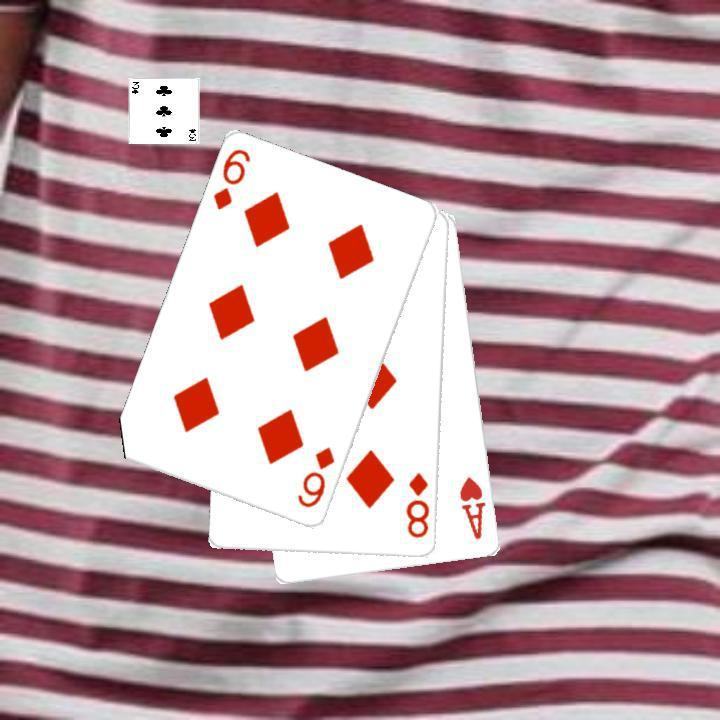6: (293, 443, 337, 511), (209, 145, 253, 213)
8: (402, 468, 431, 540)
A: (456, 473, 488, 542)
